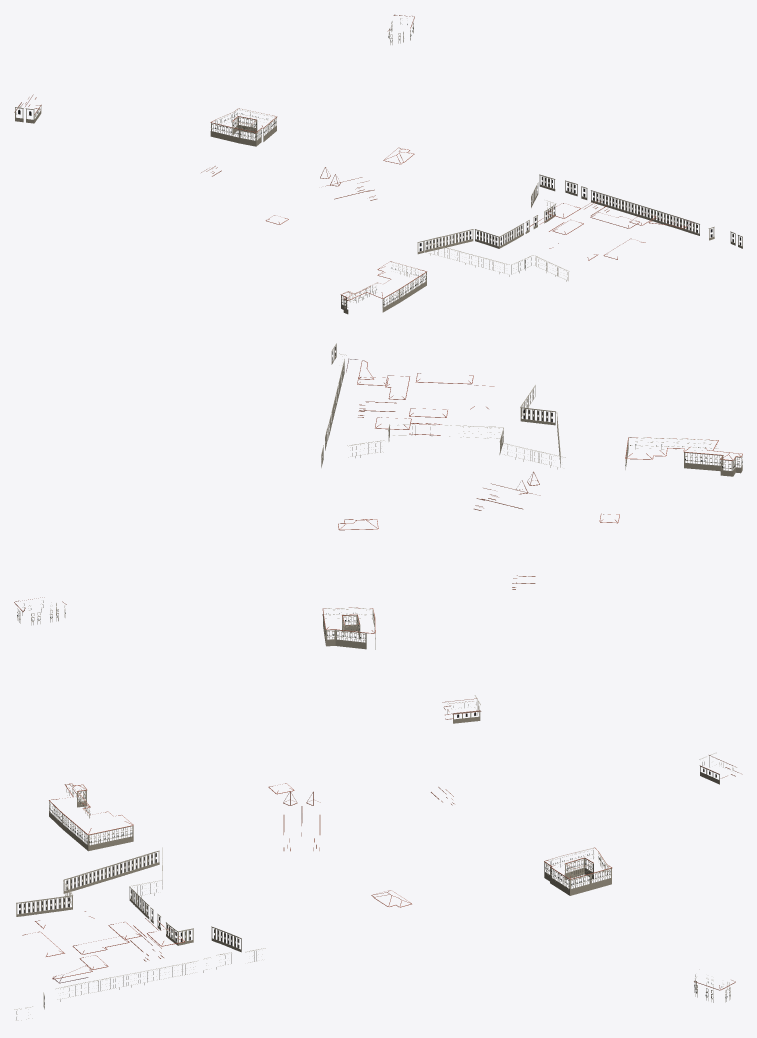
The picture shows the model from 3 angles, top to bottom: view 1: azimuth 30°, elevation 25°; view 2: azimuth 150°, elevation 25°; view 3: azimuth 270°, elevation 25°; orthographic projection. The views are drawn at different scales.
Visible parts, largest first — view 1: detail; view 2: detail; view 3: detail.
Part boxes in pixels (x1=…): detail: x1=14, y1=14, x2=742, y2=314; detail: x1=14, y1=343, x2=742, y2=723; detail: x1=14, y1=752, x2=742, y2=1020.
Bounding box in the file's own units: 368 × 49.17 × 467.
